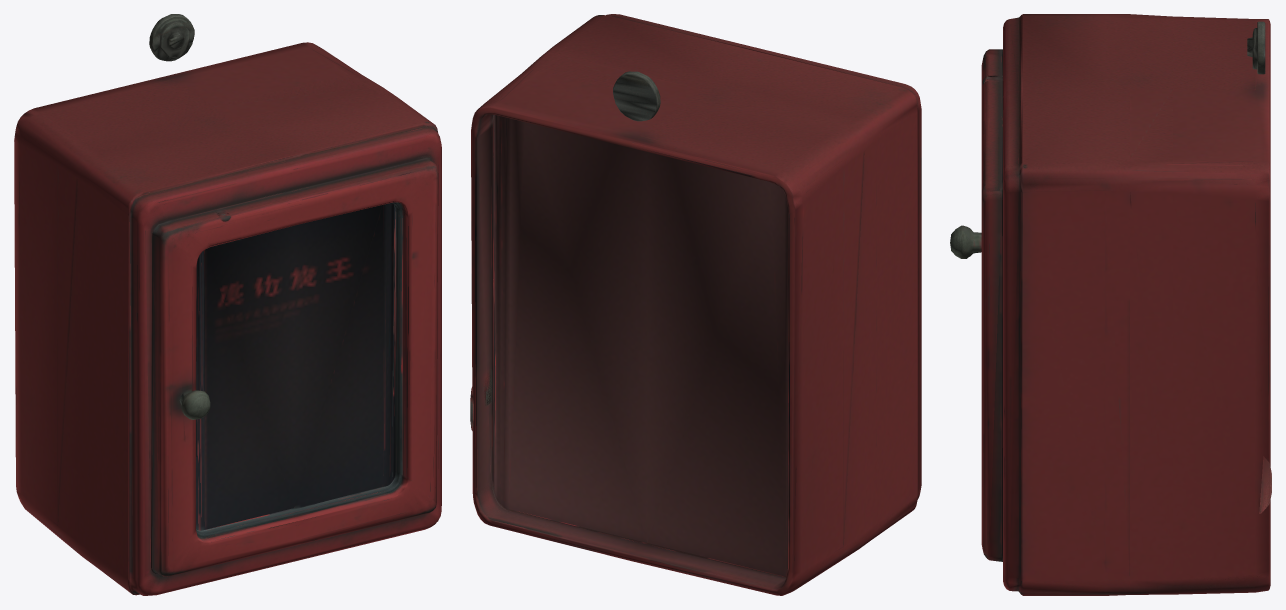
File: FireHoseCabinet.fbx
3 renders of one model, left to right at view 1: azimuth 30°, elevation 25°; view 2: azimuth 150°, elevation 25°; view 3: azimuth 270°, elevation 25°, orthographic. The views are drawn at different scales.
Parts seen in each view (by area): view 1: mesh_node; view 2: mesh_node; view 3: mesh_node.
Boxes of the visible parts, <box> form: mesh_node: <box>14,14,441,595</box>; mesh_node: <box>470,14,921,595</box>; mesh_node: <box>950,14,1271,595</box>.
Bounding box in the file's own units: 133 × 191 × 112.
Materials: 1 (1 with a texture image).
